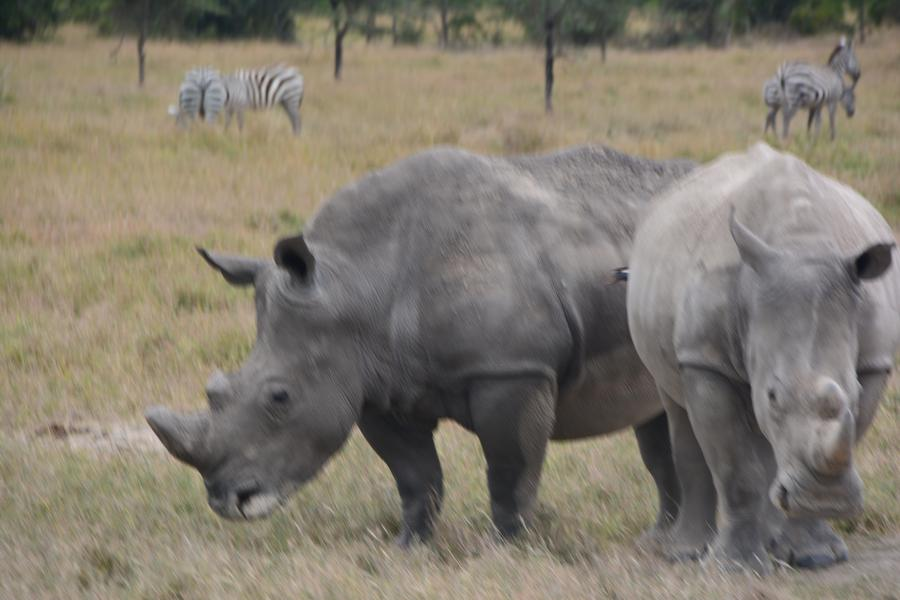rhino: (178, 134, 604, 522), (635, 138, 881, 561)
